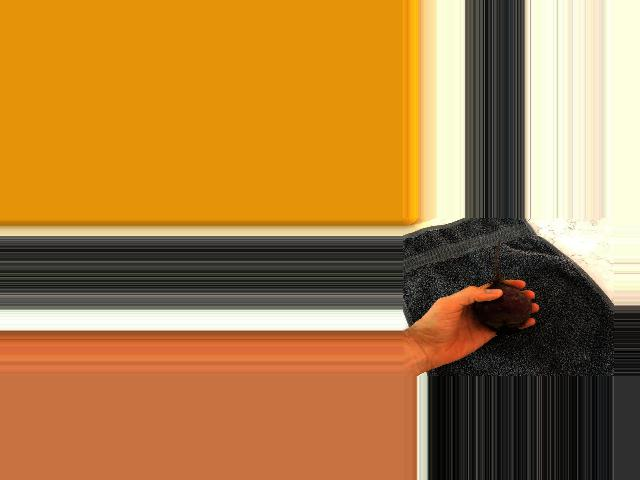beet: (474, 240, 532, 335)
